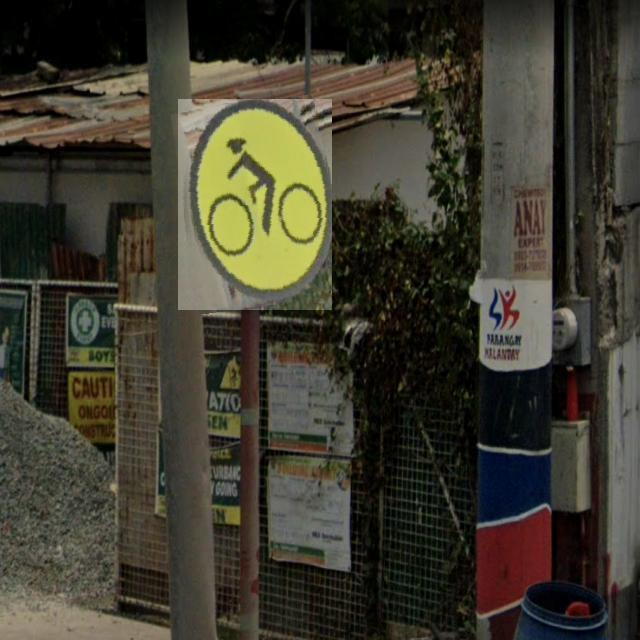bike lane: (178, 99, 332, 310)
